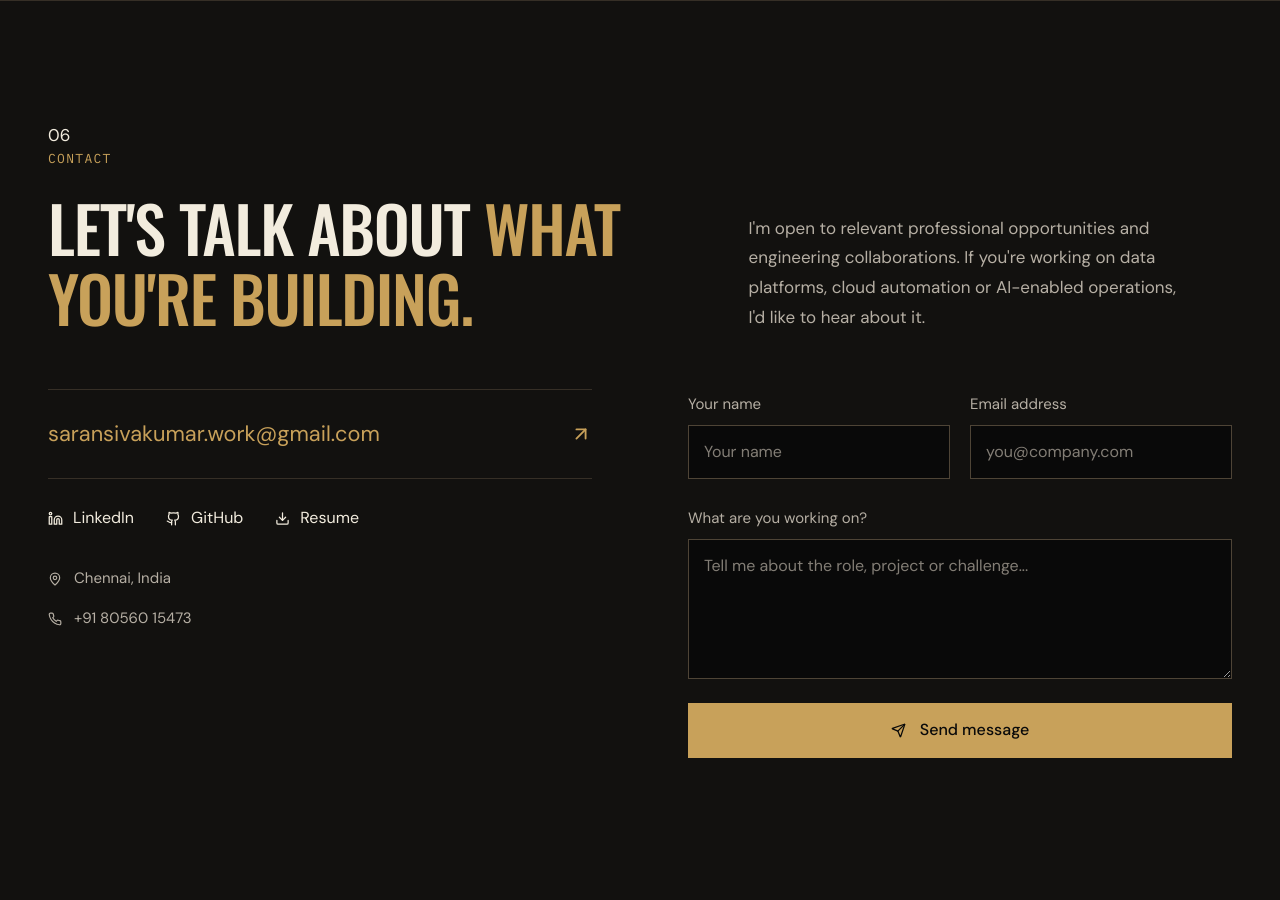
Test: Contact delivery › ignores a second submission while the first is still sending
Type "Test Visitor" into the field labelled "Your name" at (819, 452), box [688,425,950,479]
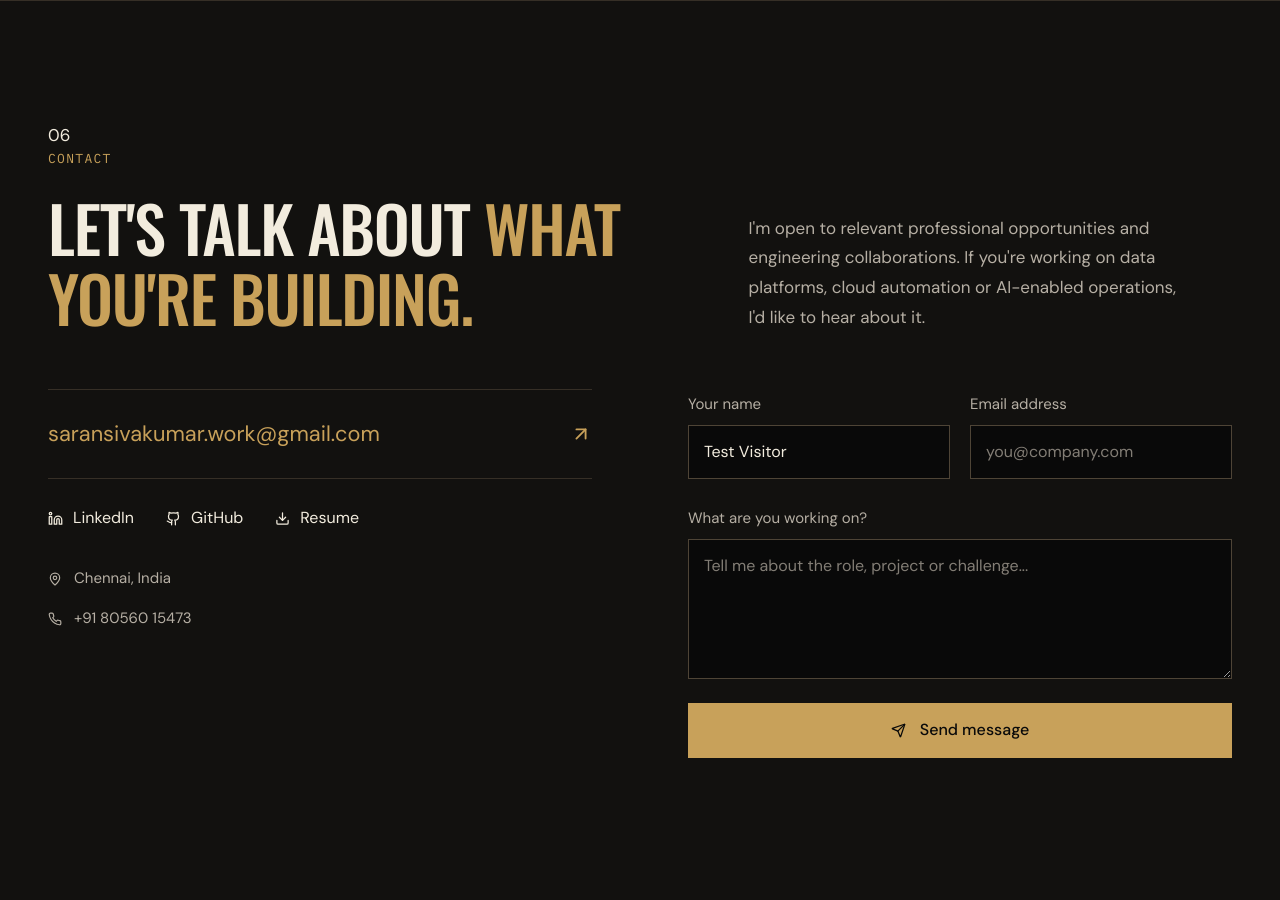
Type "visitor@example.com" into the field labelled "Email address" at (1101, 452), box [970,425,1232,479]
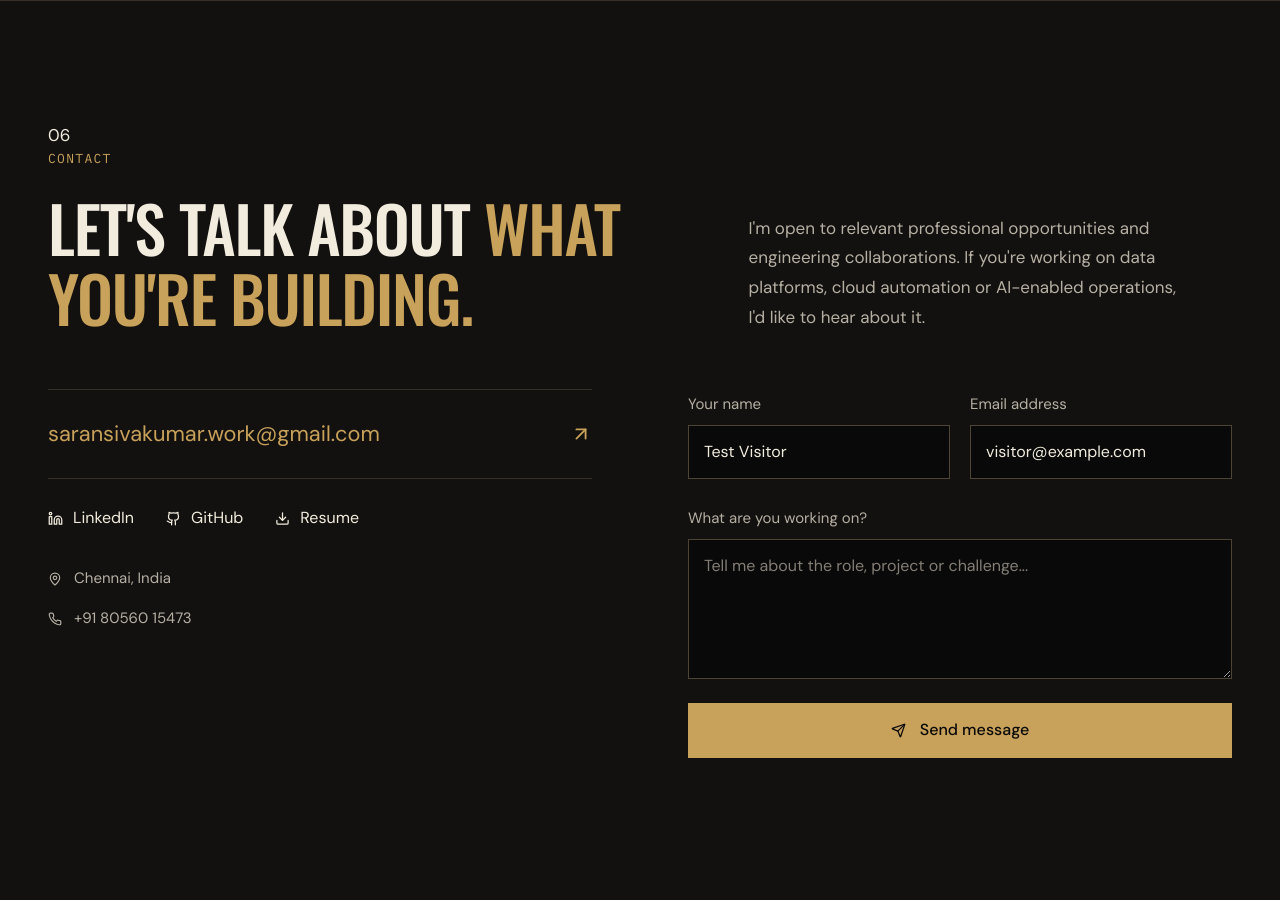
Type "A data platform engineering opportunity." into the text box labelled "What are you working on?" at (960, 609), box [688,539,1232,679]
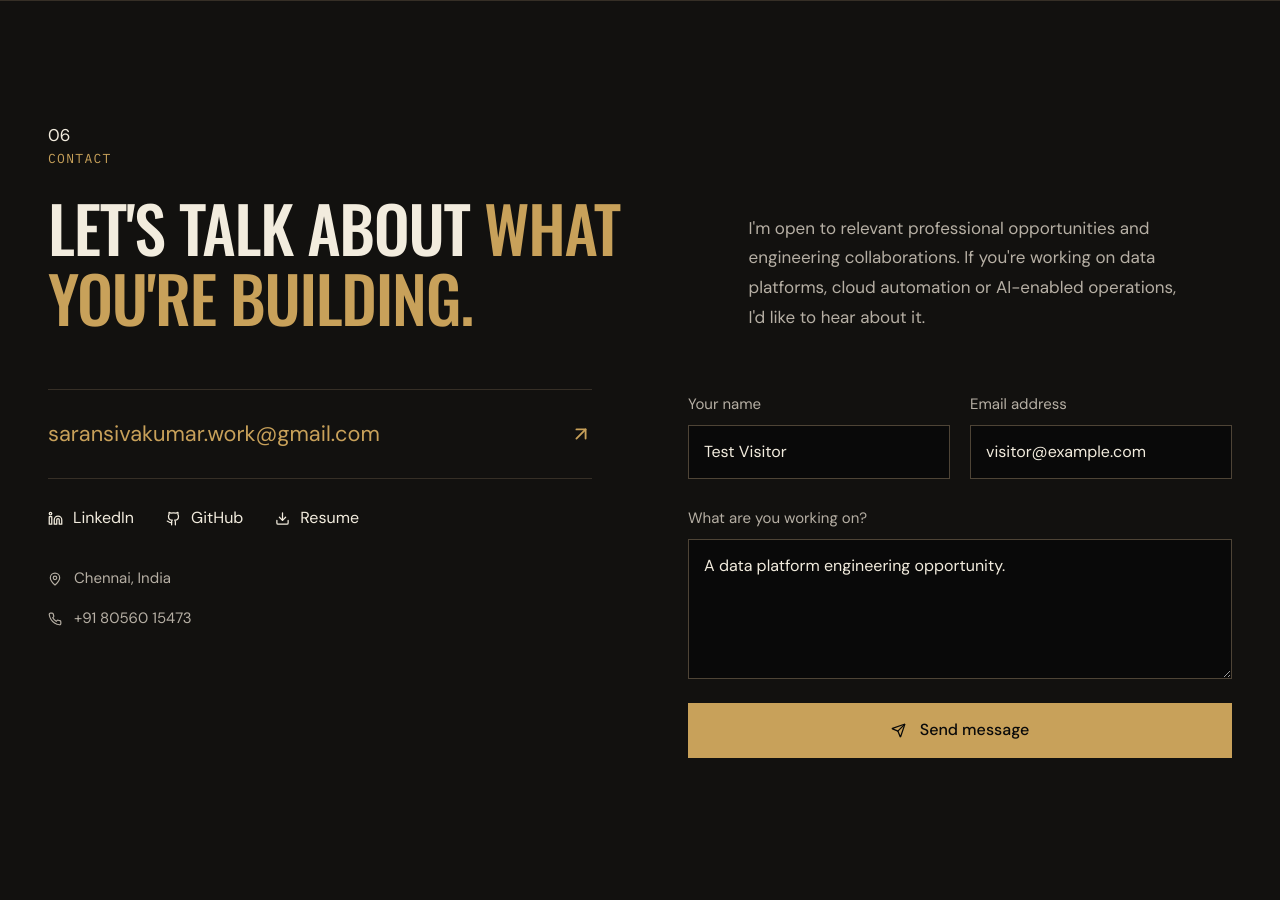
Submit the form named "Contact Saran", box [688,389,1232,782]
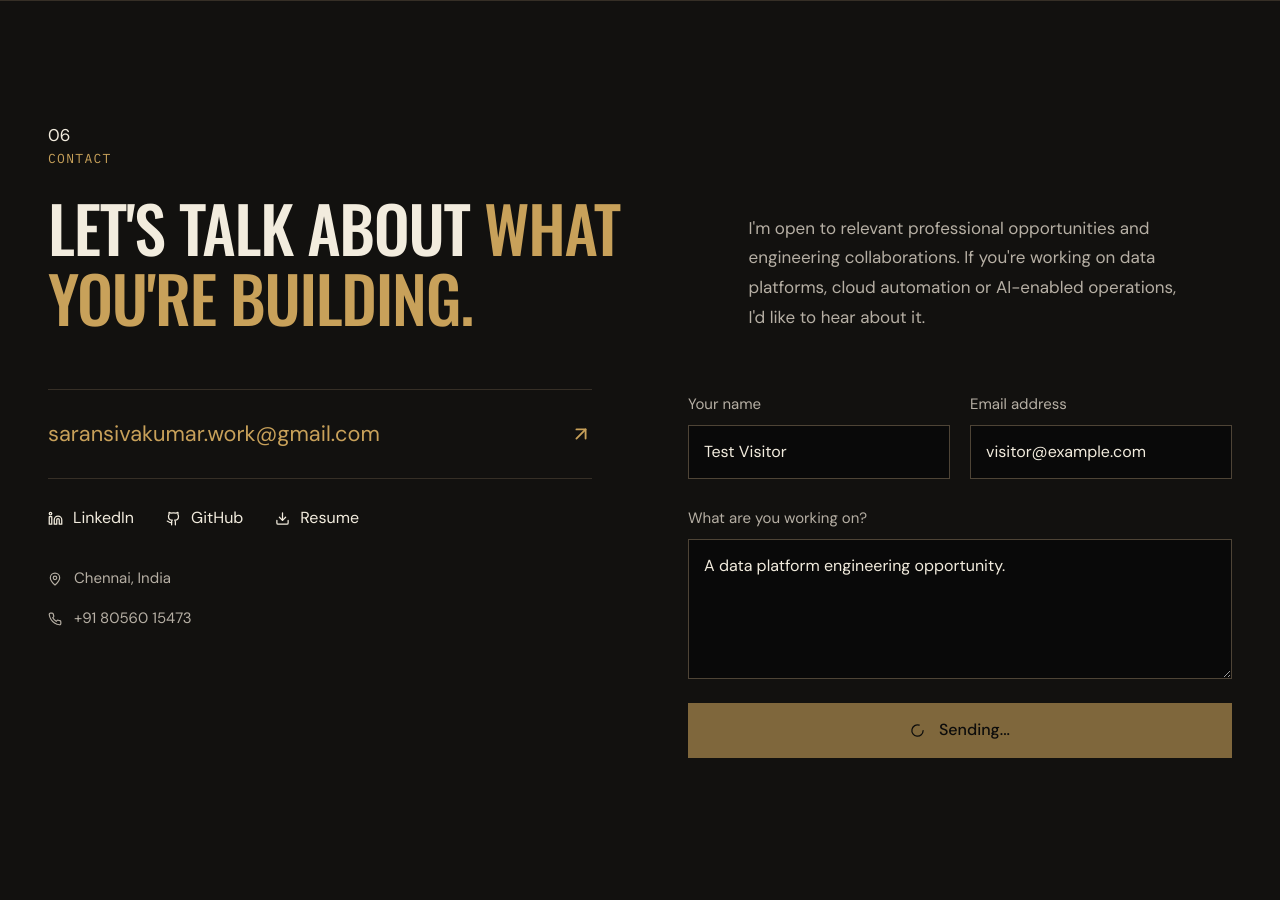
Submit the form named "Contact Saran", box [688,389,1232,782]
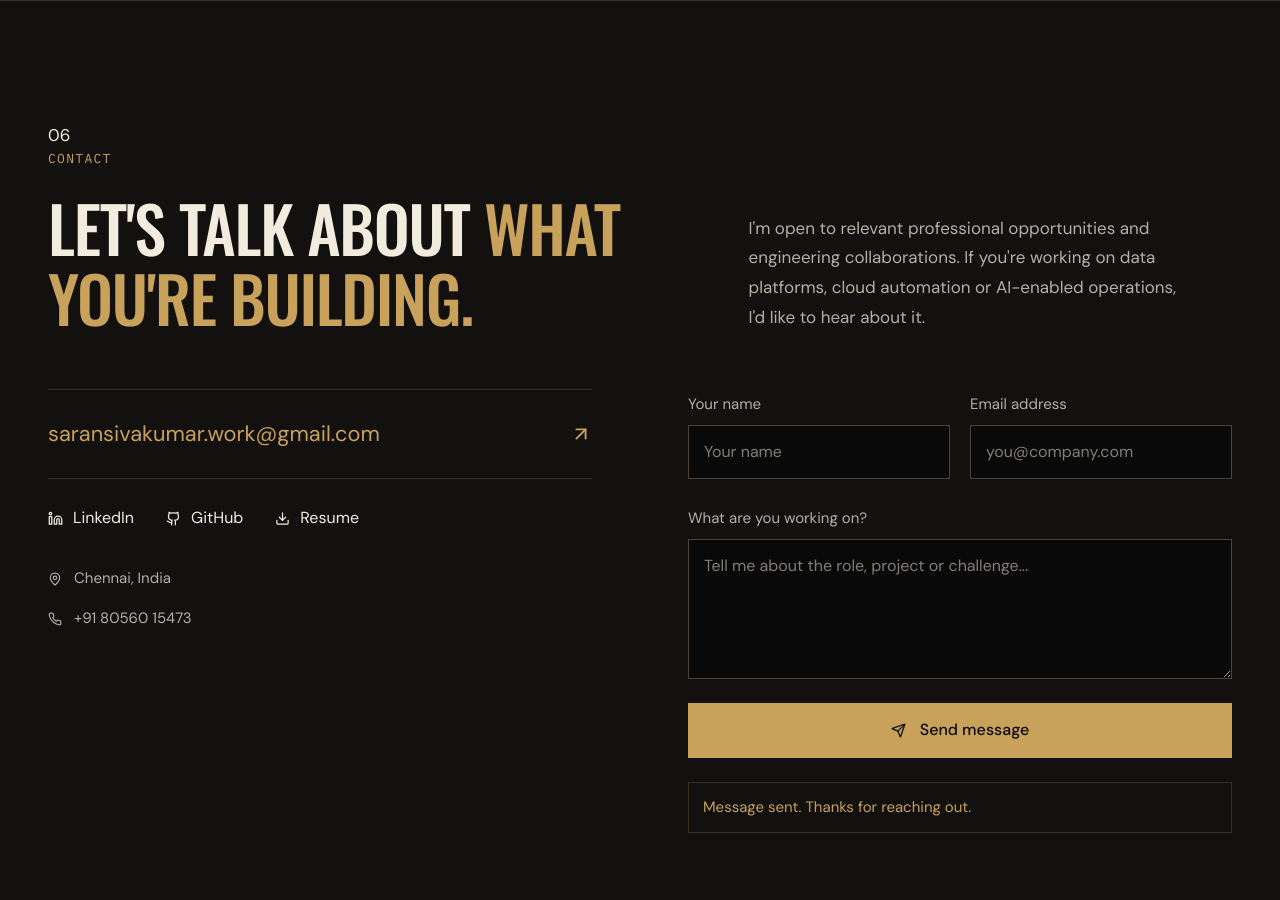
Expected: the text "Message sent. Thanks for reaching out." is shown, [688,782,1232,833]
